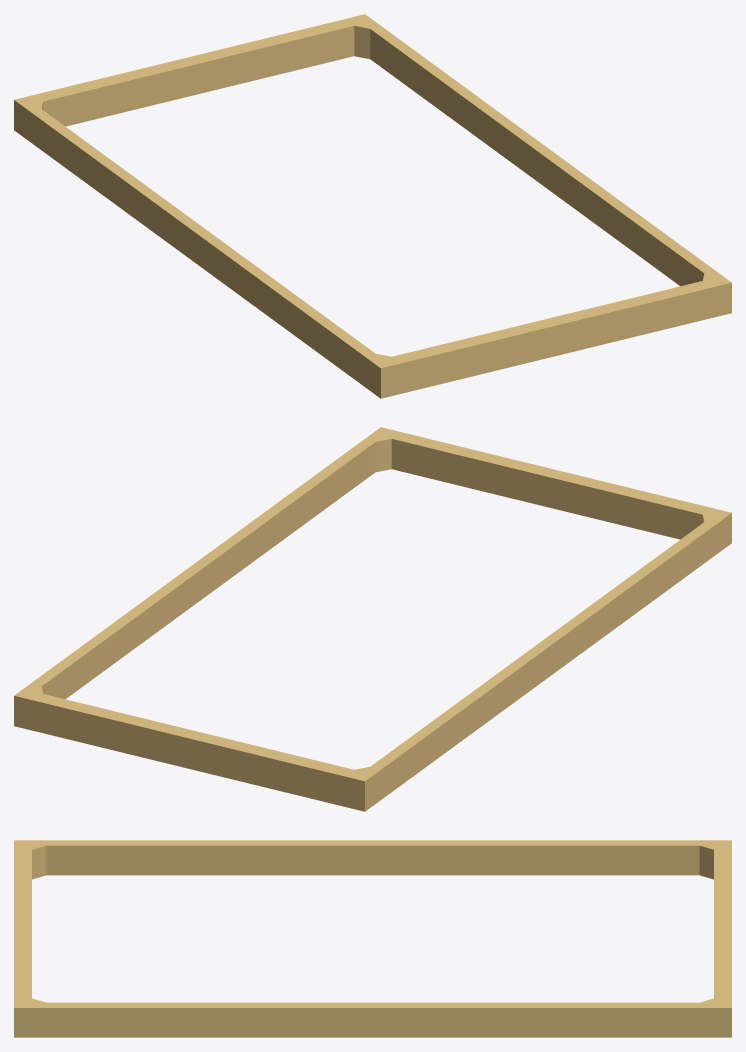
The model's file is near_wall.fbx.
3 renders of one model, top to bottom at view 1: azimuth 30°, elevation 25°; view 2: azimuth 150°, elevation 25°; view 3: azimuth 270°, elevation 25°, orthographic. The views are drawn at different scales.
Parts seen in each view (by area): view 1: near_wall; view 2: near_wall; view 3: near_wall.
Part boxes in pixels (x1=…): near_wall: x1=14, y1=14, x2=731, y2=398; near_wall: x1=14, y1=427, x2=731, y2=811; near_wall: x1=14, y1=840, x2=731, y2=1037.
Bounding box in the file's own units: 20807 × 1723 × 37663.
